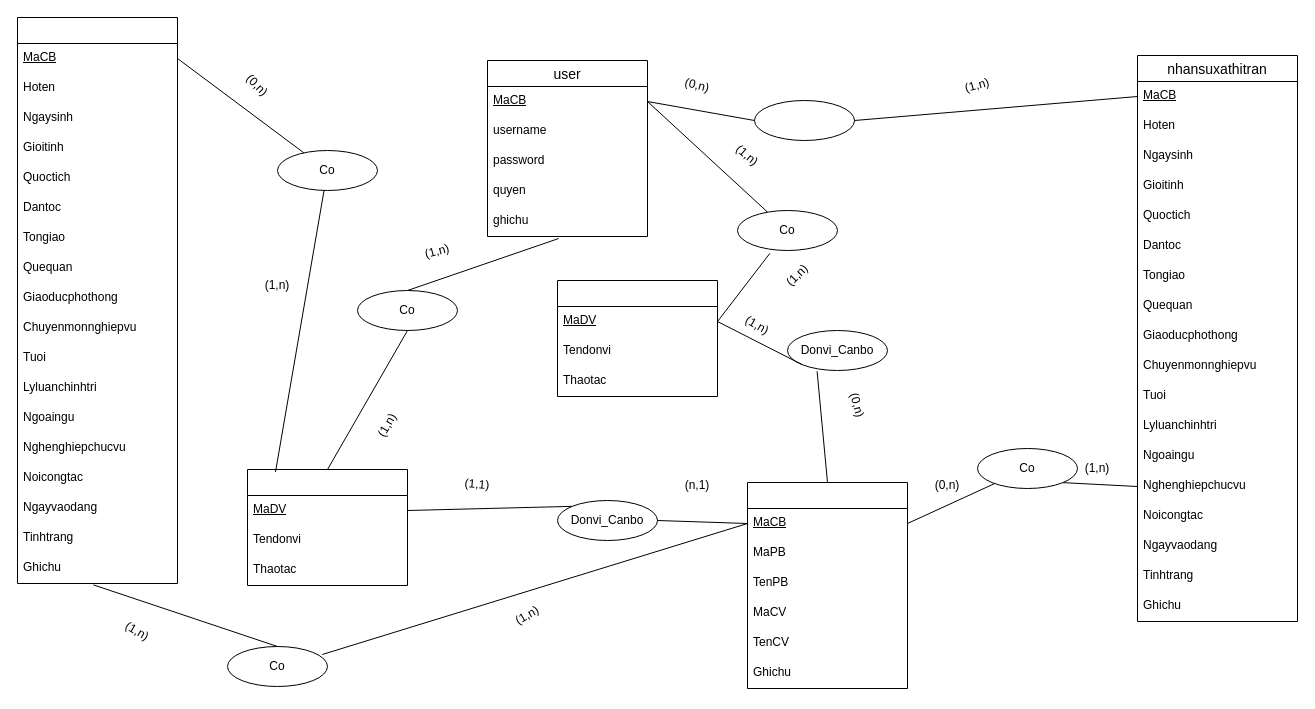
This 1315x709 diagram has some shape labels left out. Each missing label, with the box of its shape:
chucvu: (746, 482, 908, 688)
huyen: (556, 280, 718, 396)
nhansuhuyen: (16, 16, 178, 584)
Thuoc: (754, 100, 854, 140)
xathitran: (246, 468, 408, 586)
